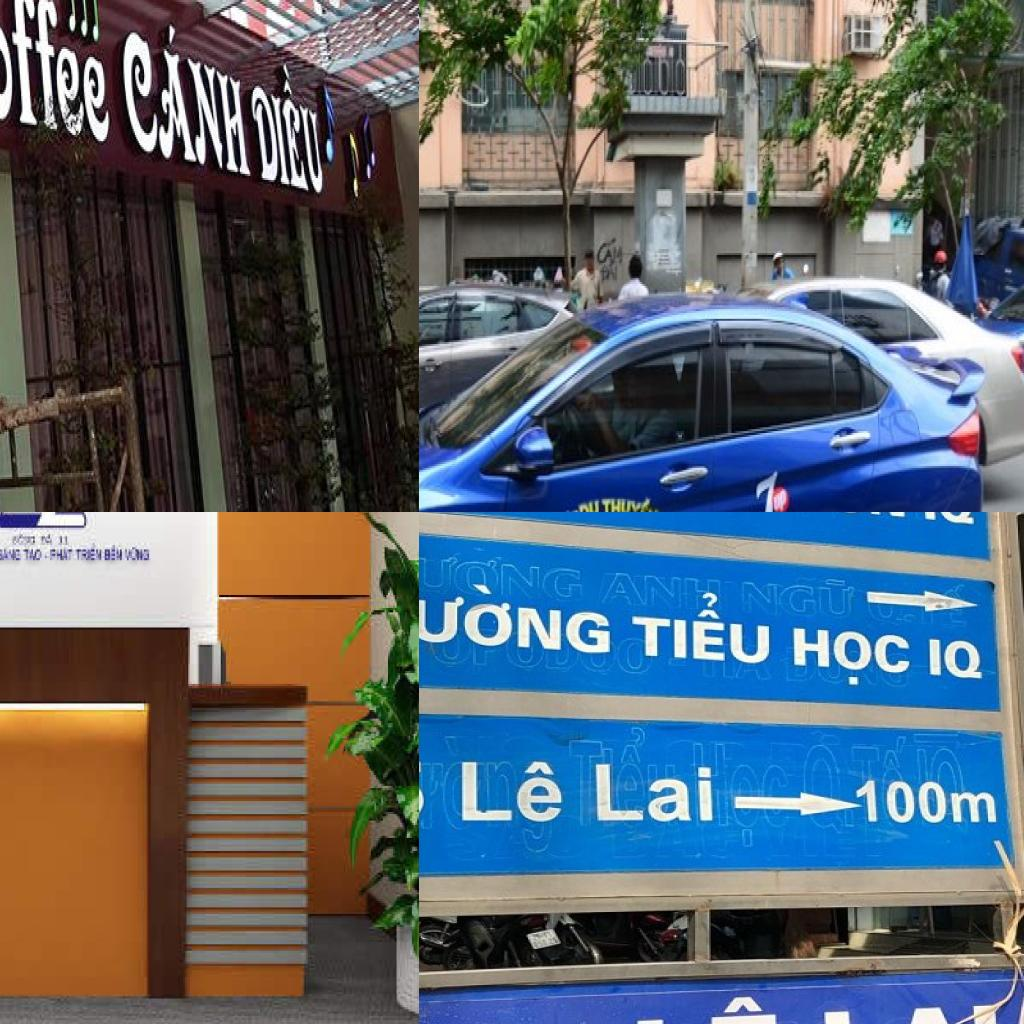text: (117, 6, 254, 186), (419, 569, 617, 660), (0, 0, 117, 149), (626, 589, 775, 672), (788, 622, 920, 692), (448, 758, 572, 832), (852, 775, 1004, 834), (592, 762, 718, 828), (818, 994, 1012, 1024), (628, 993, 789, 1024), (925, 635, 991, 689), (602, 489, 666, 512), (917, 512, 980, 532), (753, 469, 780, 512), (595, 240, 627, 272), (599, 261, 622, 286), (770, 483, 789, 512), (578, 493, 602, 512), (57, 534, 70, 547), (104, 547, 112, 565), (0, 547, 5, 562)
